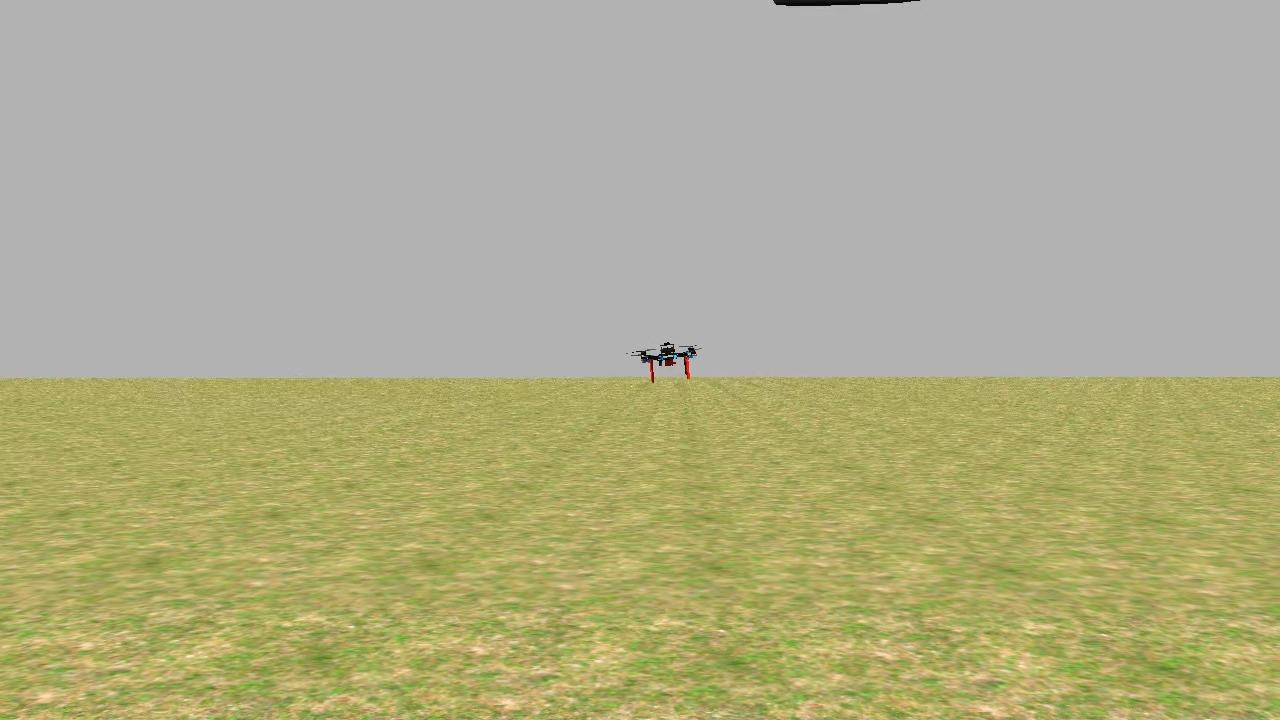UAV: (632, 327, 719, 402)
